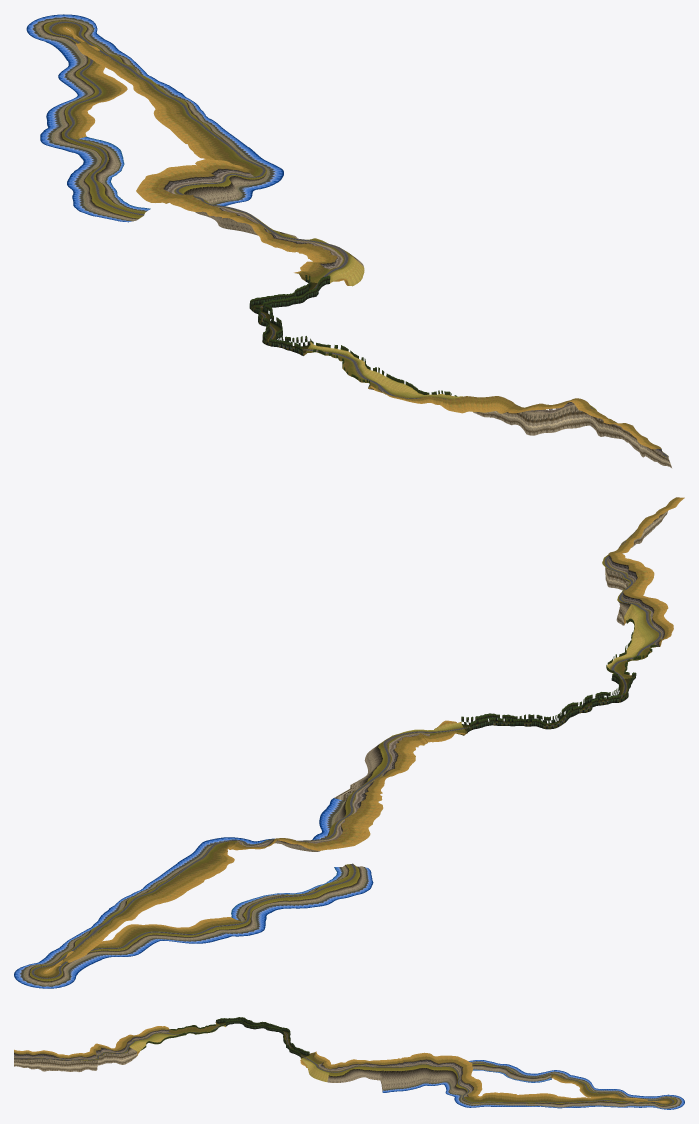
File: course-cl3.glb
The picture shows the model from 3 angles, top to bottom: view 1: azimuth 30°, elevation 25°; view 2: azimuth 150°, elevation 25°; view 3: azimuth 270°, elevation 25°; orthographic projection. The views are drawn at different scales.
Parts seen in each view (by area): view 1: course-cl3; view 2: course-cl3; view 3: course-cl3.
Boxes of the visible parts, x1,y1,x2,y2 form: course-cl3: (26, 14, 671, 467); course-cl3: (14, 497, 684, 988); course-cl3: (14, 1017, 684, 1109).
Bounding box in the file's own units: 1474 × 410 × 6679.
Materials: 57 (57 with a texture image).
